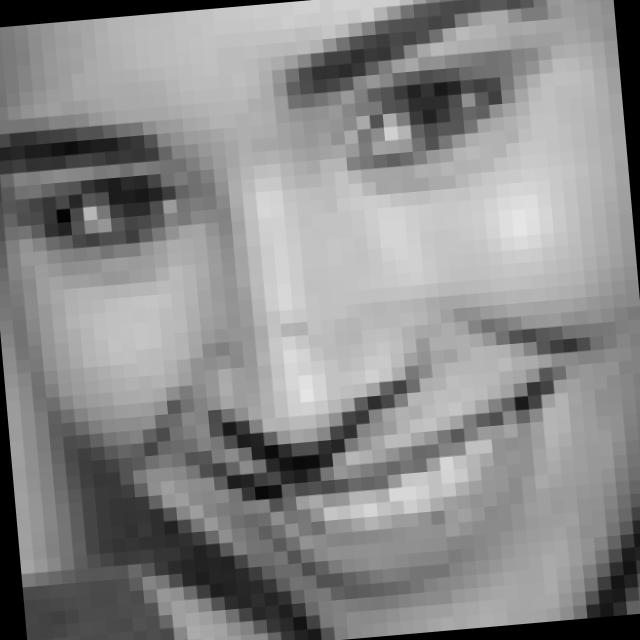happy: (0, 0, 627, 631)
